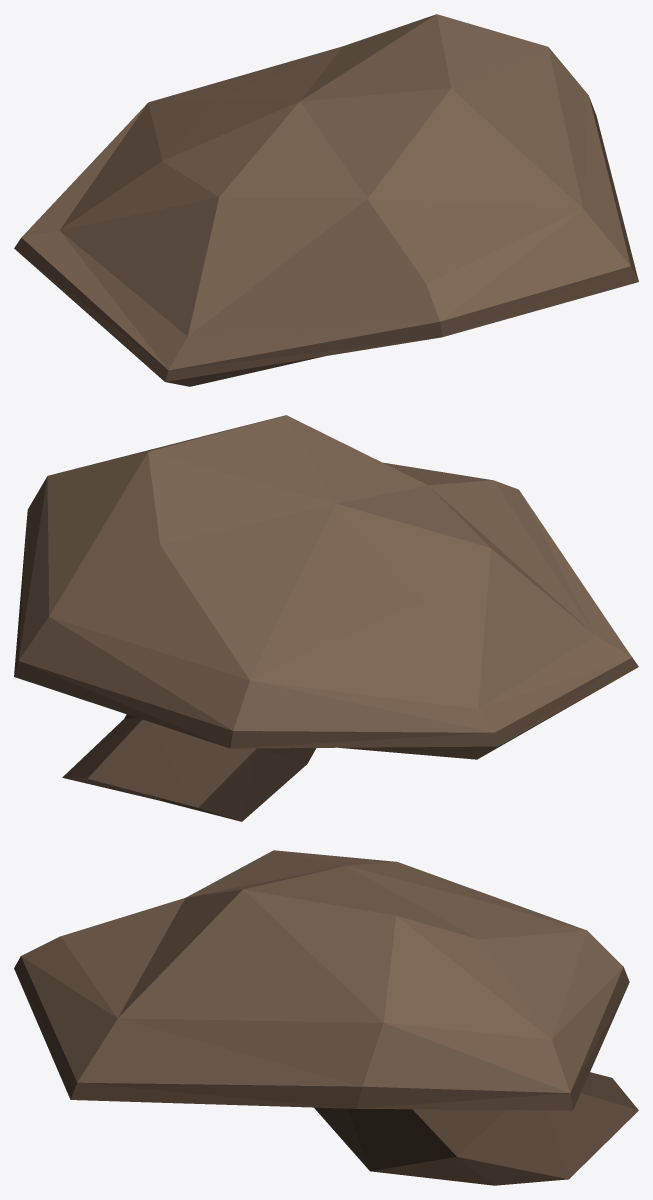
The model's file is SM_Clinging_Mushroom_02.fbx.
3 renders of one model, top to bottom at view 1: azimuth 30°, elevation 25°; view 2: azimuth 150°, elevation 25°; view 3: azimuth 270°, elevation 25°, orthographic.
Visible parts, largest first — view 1: SM_Clinging_Mushroom_02; view 2: SM_Clinging_Mushroom_02; view 3: SM_Clinging_Mushroom_02.
Part boxes in pixels (x1,y1,x2,y2): SM_Clinging_Mushroom_02: [14, 14, 638, 386]; SM_Clinging_Mushroom_02: [14, 415, 638, 821]; SM_Clinging_Mushroom_02: [14, 850, 638, 1185].
Bounding box in the file's own units: 158 × 84.66 × 160.
